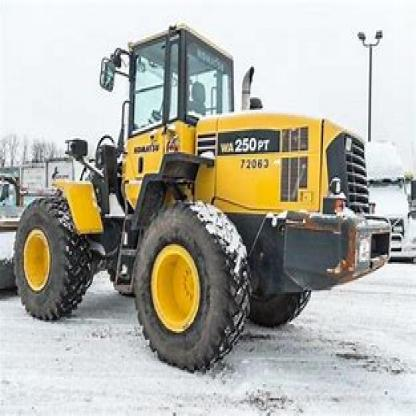bull_dozer/loader/grader: (7, 21, 396, 379)
